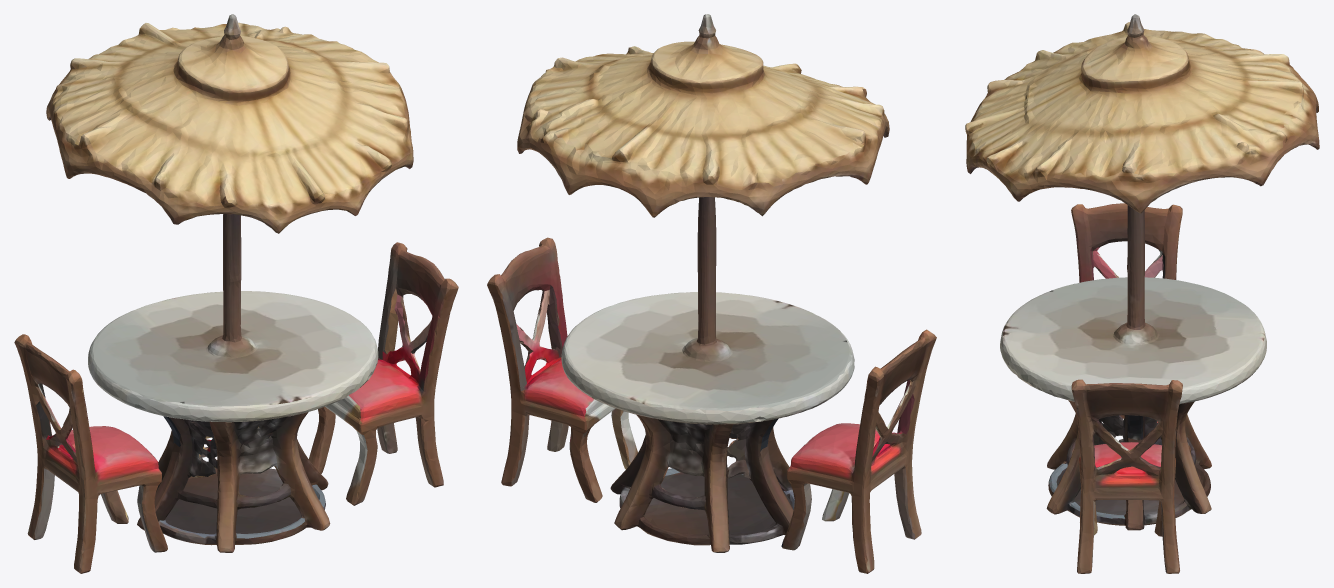
Rendered from cafe_bistro_umbrella_set.glb.
3 views of the same model, side by side, from view 1: azimuth 30°, elevation 25°; view 2: azimuth 150°, elevation 25°; view 3: azimuth 270°, elevation 25° (orthographic). The views are drawn at different scales.
Visible parts, largest first — view 1: tmpnw9w65yp.ply; view 2: tmpnw9w65yp.ply; view 3: tmpnw9w65yp.ply.
Part boxes in pixels (x1,y1,x2,y2): tmpnw9w65yp.ply: [14, 14, 458, 573]; tmpnw9w65yp.ply: [487, 14, 936, 573]; tmpnw9w65yp.ply: [965, 14, 1319, 573].
Size of the model in its own units: 1.65 by 2 by 1.35.
Materials: 1 (1 with a texture image).
